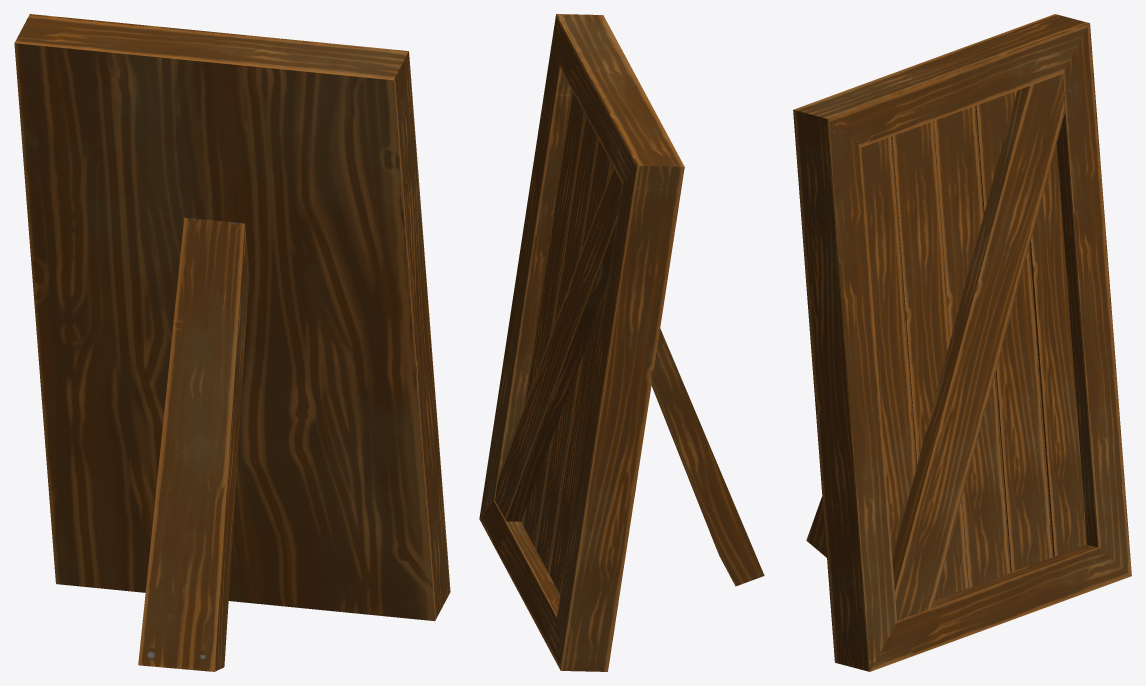
The picture shows the model from 3 angles, left to right: view 1: azimuth 30°, elevation 25°; view 2: azimuth 150°, elevation 25°; view 3: azimuth 270°, elevation 25°; orthographic projection. The views are drawn at different scales.
Visible parts, largest first — view 1: Cube.478; view 2: Cube.478; view 3: Cube.478.
Boxes of the visible parts, box(x1,y1,x2,y2) form: Cube.478: box(14, 14, 450, 671); Cube.478: box(479, 14, 764, 671); Cube.478: box(793, 14, 1131, 671).
Size of the model in its own units: 205 by 345 by 197.
1 material, 1 textured.
